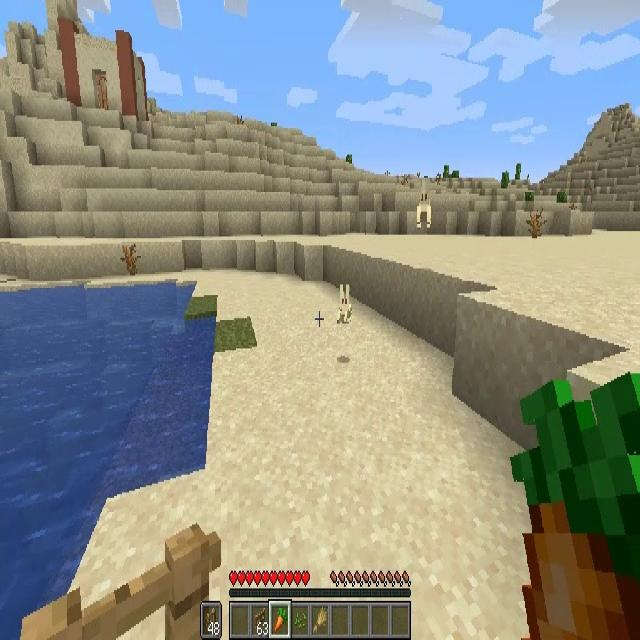rabbit: (417, 178, 432, 228), (338, 284, 352, 325)
